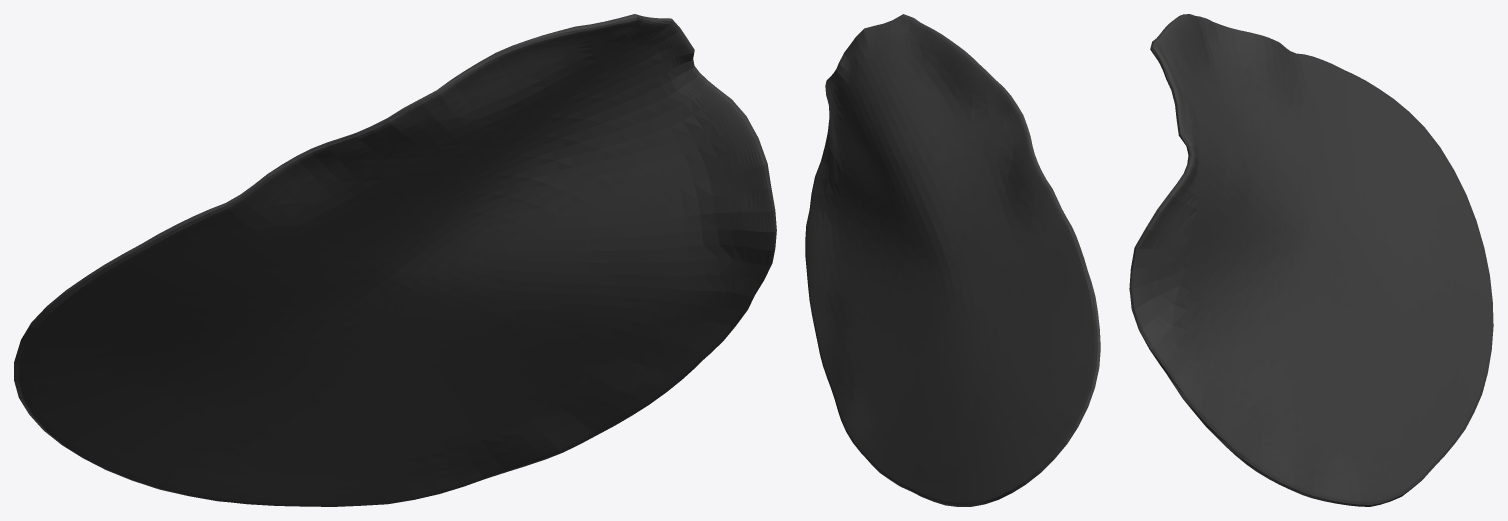
File: Tympanic_membrane_L.glb
The picture shows the model from 3 angles, left to right: view 1: azimuth 30°, elevation 25°; view 2: azimuth 150°, elevation 25°; view 3: azimuth 270°, elevation 25°; orthographic projection. The views are drawn at different scales.
Parts seen in each view (by area): view 1: Tympanic_membrane_L; view 2: Tympanic_membrane_L; view 3: Tympanic_membrane_L.
Part boxes in pixels (x1=…): Tympanic_membrane_L: x1=14, y1=14, x2=776, y2=506; Tympanic_membrane_L: x1=805, y1=14, x2=1100, y2=506; Tympanic_membrane_L: x1=1129, y1=14, x2=1493, y2=506.
Bounding box in the file's own units: 3.32 × 3.07 × 2.04.
Materials: 1 (1 with a texture image).
